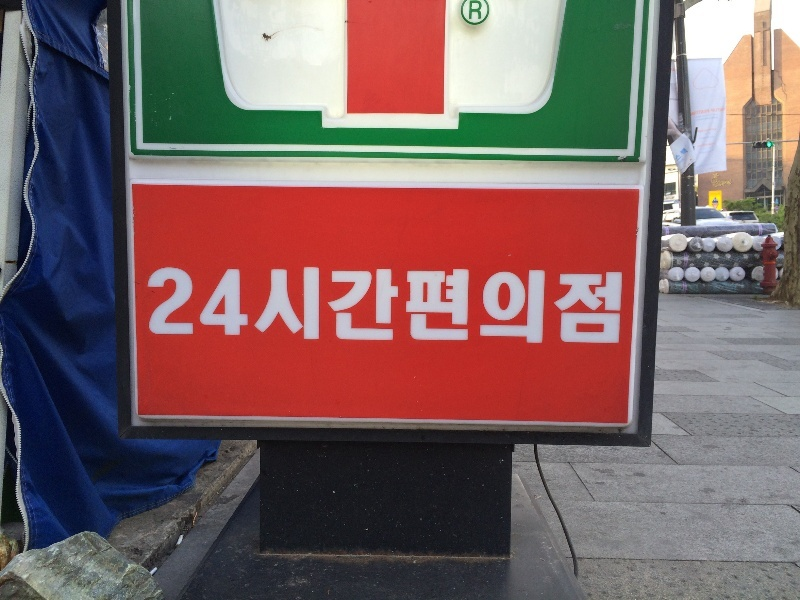text: (161, 265, 176, 346), (177, 265, 192, 346), (193, 265, 208, 346), (209, 265, 224, 346), (225, 265, 240, 346), (241, 265, 256, 346), (257, 265, 272, 346), (273, 265, 288, 346), (289, 265, 304, 346), (305, 265, 320, 346), (321, 265, 336, 346), (337, 265, 352, 346), (353, 265, 368, 346), (369, 265, 384, 346), (385, 265, 400, 346), (401, 265, 416, 346), (417, 265, 432, 346), (433, 265, 448, 346), (449, 265, 464, 346), (465, 265, 480, 346), (481, 265, 496, 346), (497, 265, 512, 346), (513, 265, 528, 346), (529, 265, 544, 346), (545, 265, 560, 346), (561, 265, 576, 346), (577, 265, 592, 346), (593, 265, 608, 346), (609, 265, 624, 346), (146, 265, 160, 346), (465, 1, 480, 27), (481, 1, 491, 27), (675, 148, 688, 162), (705, 106, 720, 117), (625, 265, 627, 346), (691, 106, 704, 117), (459, 1, 464, 27), (722, 179, 736, 187), (713, 176, 720, 189), (721, 106, 725, 117), (664, 196, 672, 201), (673, 196, 676, 201), (721, 176, 722, 189), (673, 68, 676, 72), (671, 68, 672, 72)
